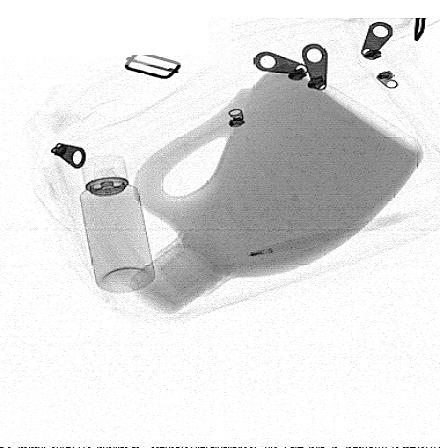Sprayer: (78, 154, 156, 295)
